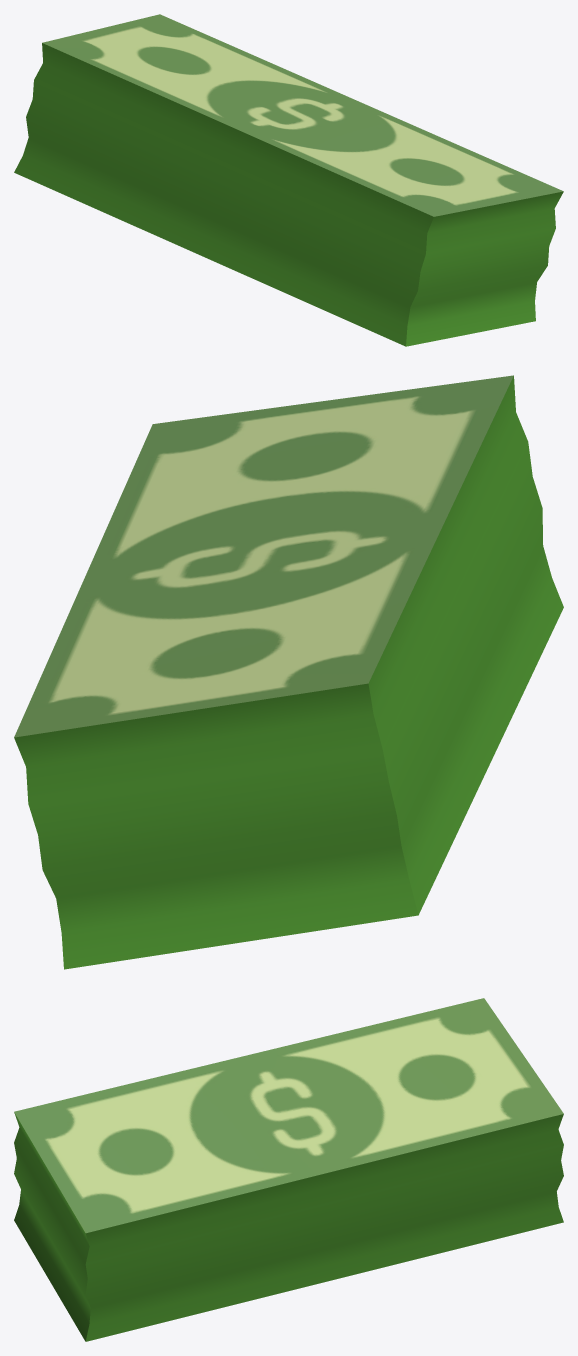
The model's file is cash.fbx.
3 renders of one model, top to bottom at view 1: azimuth 30°, elevation 25°; view 2: azimuth 150°, elevation 25°; view 3: azimuth 270°, elevation 25°, orthographic. The views are drawn at different scales.
Visible parts, largest first — view 1: money; view 2: money; view 3: money.
Boxes of the visible parts, left/top/right/bottom form: money: left=14, top=14, right=563, bottom=346; money: left=14, top=375, right=563, bottom=969; money: left=14, top=998, right=563, bottom=1341.
Size of the model in its own units: 0.7987 by 0.4437 by 1.1.
